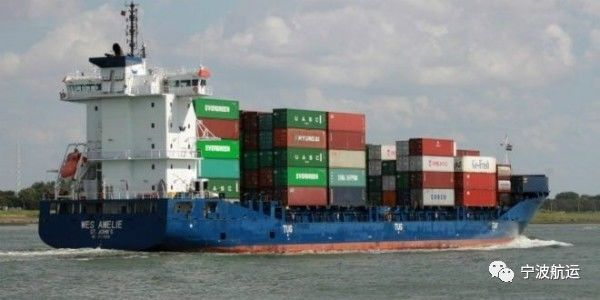Cargoship: (39, 10, 550, 256)
